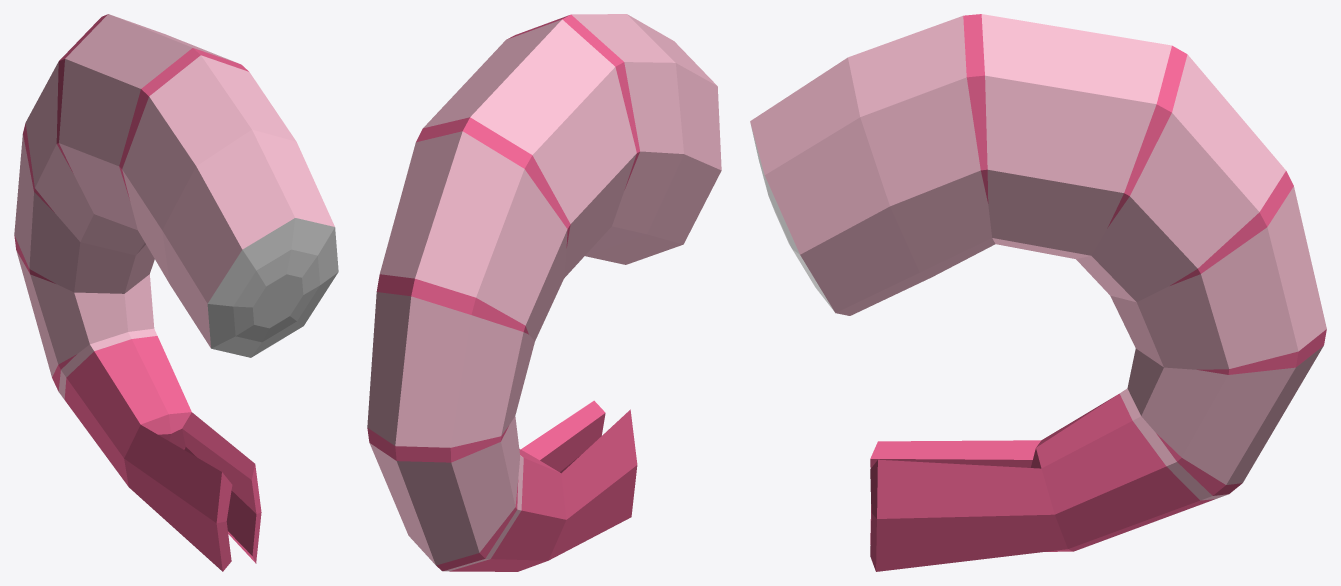
File: Shrimp.glb
3 renders of one model, left to right at view 1: azimuth 30°, elevation 25°; view 2: azimuth 150°, elevation 25°; view 3: azimuth 270°, elevation 25°, orthographic. The views are drawn at different scales.
Parts seen in each view (by area): view 1: Shrimp_Circle.007; view 2: Shrimp_Circle.007; view 3: Shrimp_Circle.007.
Part boxes in pixels (x1,y1,x2,y2): Shrimp_Circle.007: (14, 14, 338, 571); Shrimp_Circle.007: (367, 14, 721, 571); Shrimp_Circle.007: (750, 14, 1326, 571).
Size of the model in its own units: 3.16 by 10.33 by 9.84.
